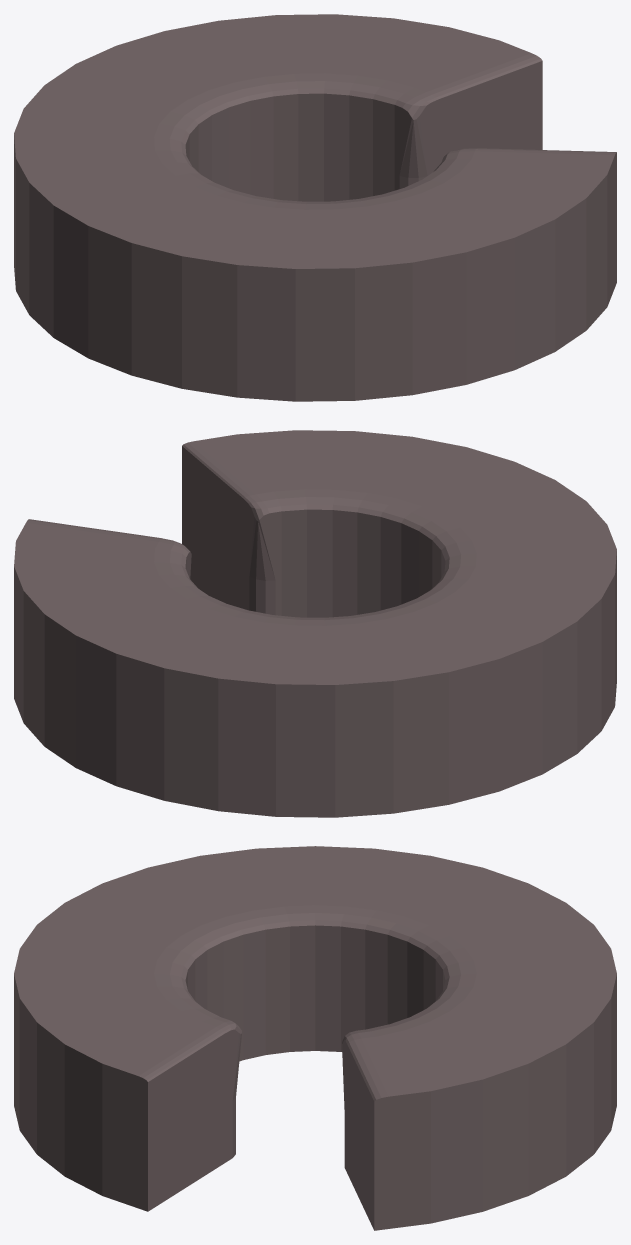
The model's file is Path03.obj.
The picture shows the model from 3 angles, top to bottom: view 1: azimuth 30°, elevation 25°; view 2: azimuth 150°, elevation 25°; view 3: azimuth 270°, elevation 25°; orthographic projection.
Parts seen in each view (by area): view 1: Middle_Cylinder.001; view 2: Middle_Cylinder.001; view 3: Middle_Cylinder.001.
Part boxes in pixels (bbox=[...]): Middle_Cylinder.001: bbox=[14, 14, 616, 401]; Middle_Cylinder.001: bbox=[14, 430, 616, 817]; Middle_Cylinder.001: bbox=[14, 846, 616, 1230].
Size of the model in its own units: 17.31 by 4.23 by 17.48.
Materials: 1 (1 with a texture image).
